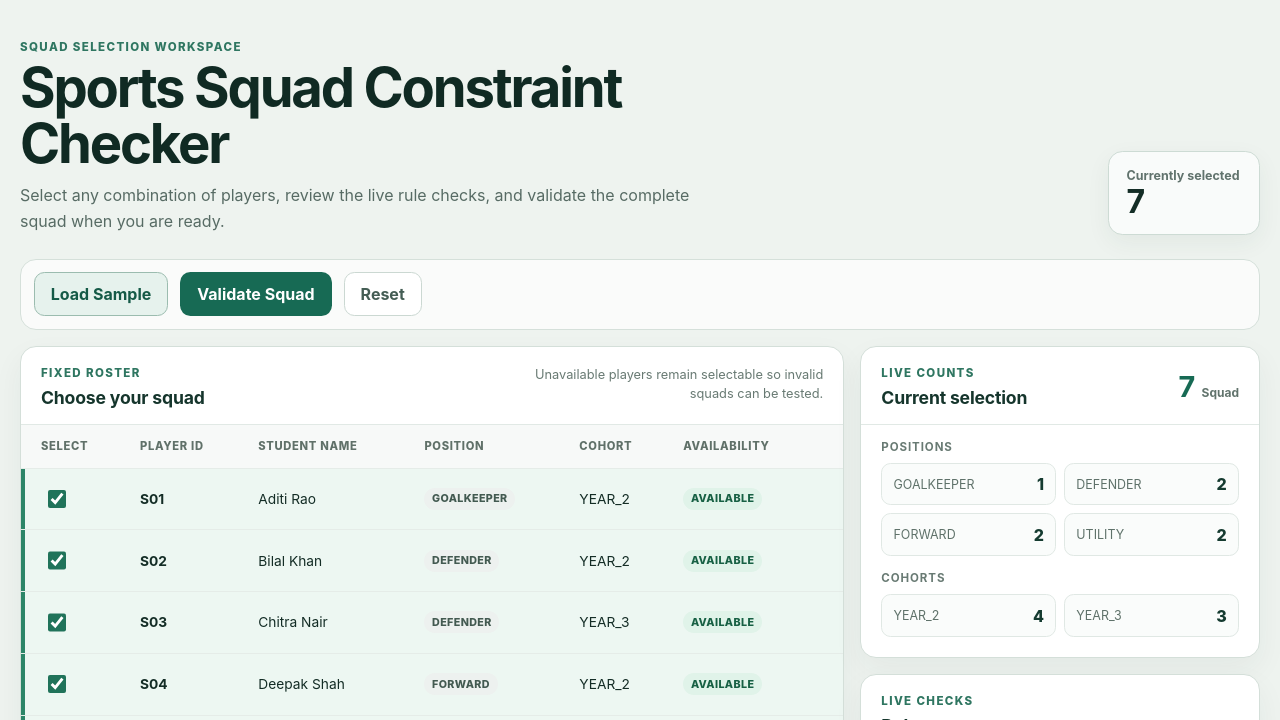
Test case: Sports Squad Constraint Checker UI › reports the exact ordered S07 to S08 violations after live checks update
Click the button "Validate Squad": coordinates (256, 294) [180,272,332,316]
(page scrolled)
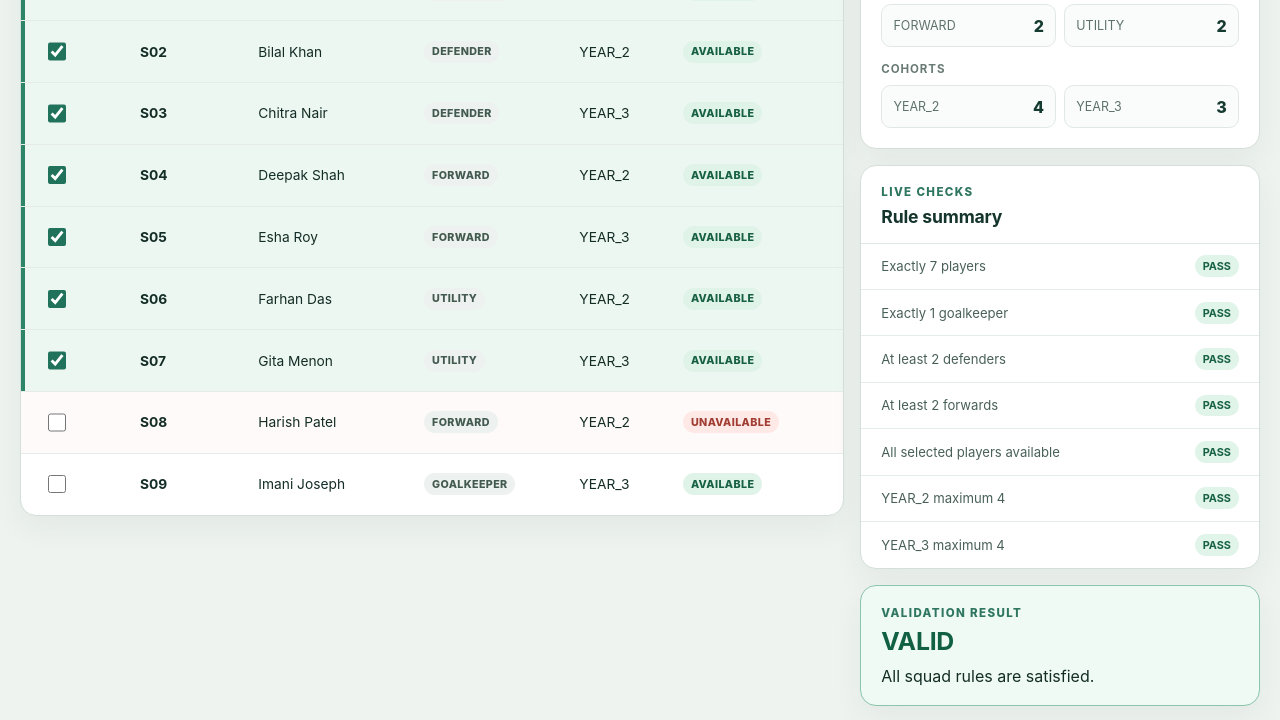
expect the heading "VALID" is shown: met, box [881,626,954,656]
Click the checkbox next to "S07": coordinates (57, 361) [48,351,66,370]
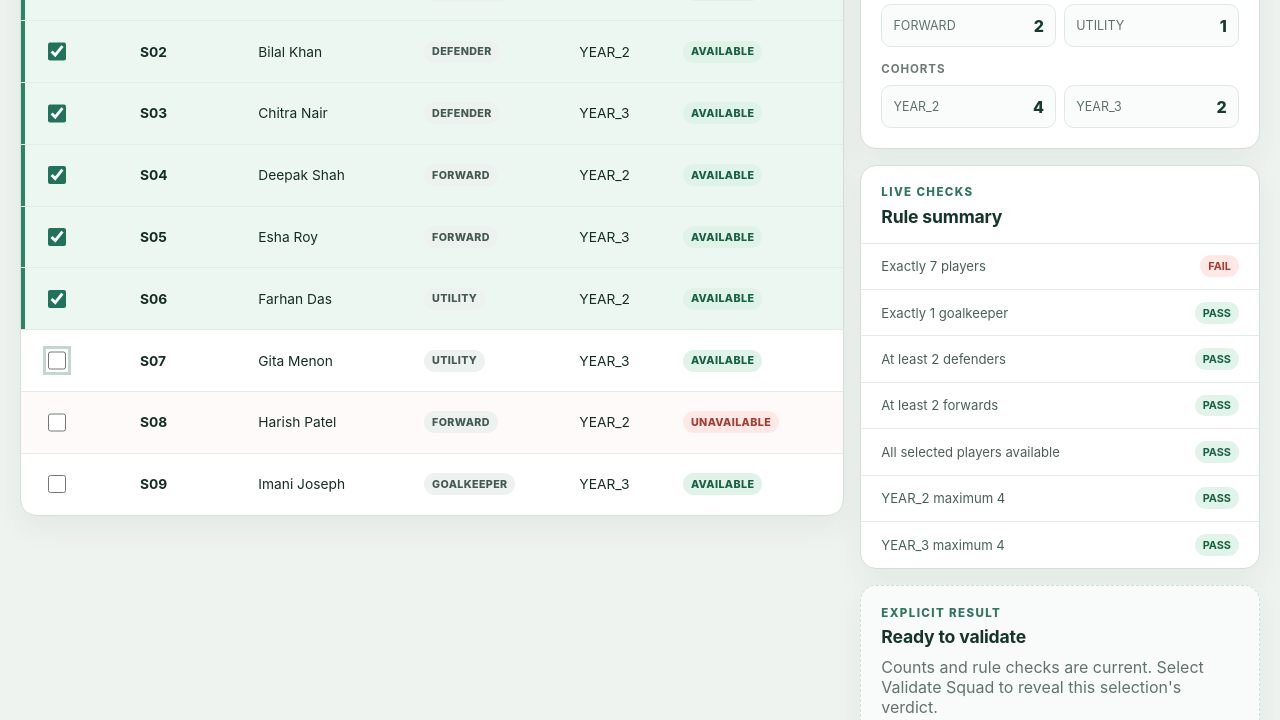
Click the checkbox next to "S08": coordinates (57, 422) [48,413,66,432]
(page scrolled)
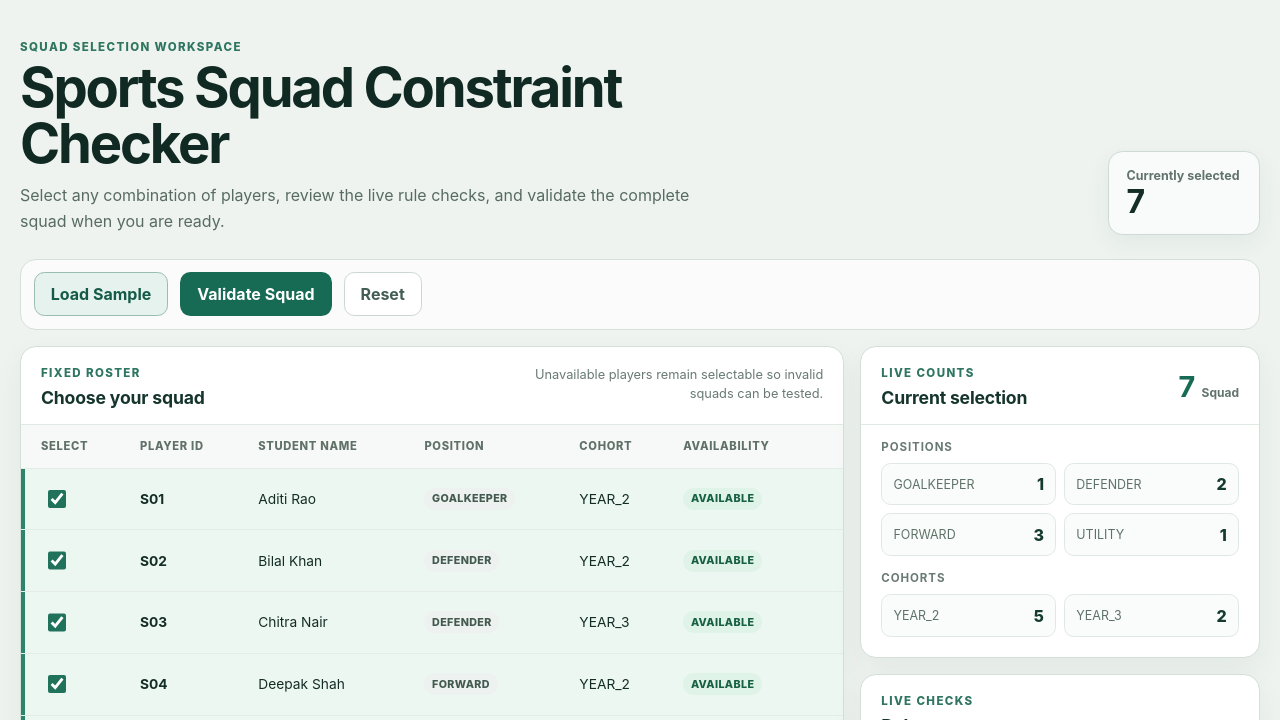
expect the 2nd text "1" is shown: met, box [1220,525,1227,545]
expect the text "3" is shown: met, box [1033,525,1044,545]
expect the text "5" is shown: met, box [1034,606,1044,626]
Click the button "Validate Squad": coordinates (256, 294) [180,272,332,316]
(page scrolled)
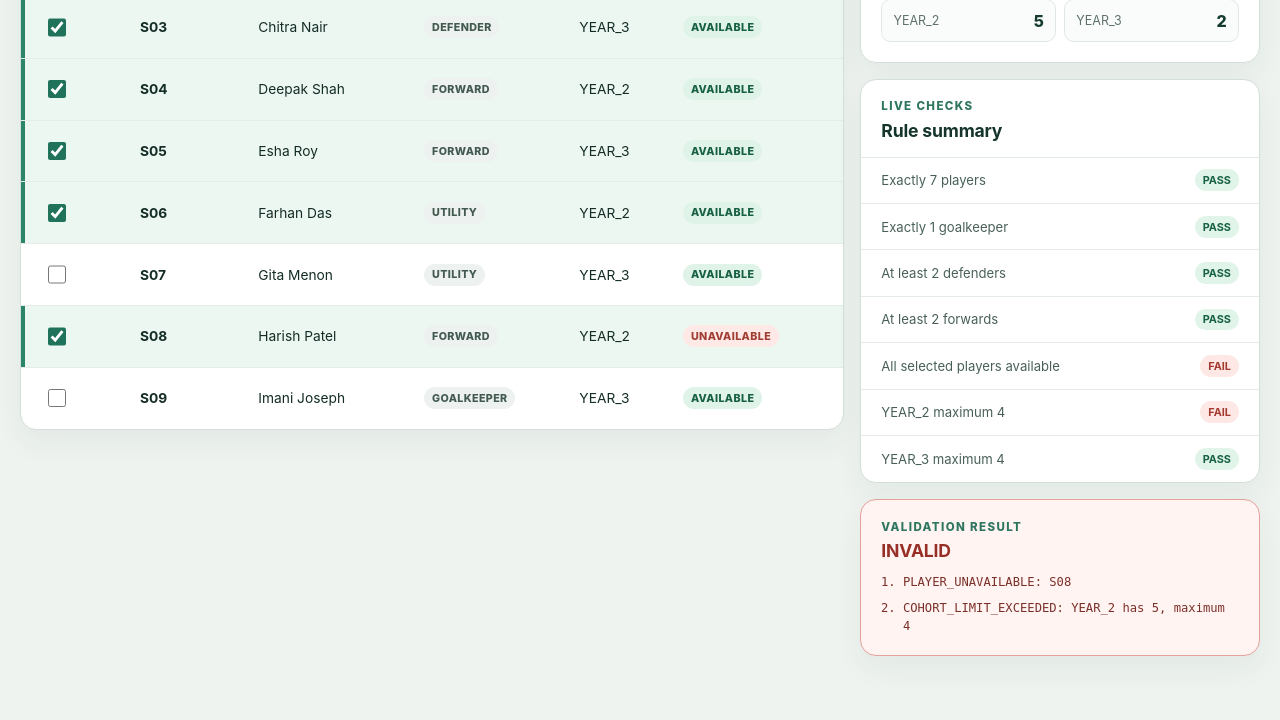
expect the heading "INVALID" is shown: met, box [881,540,951,561]
expect the list items read "PLAYER_UNAVAILABLE: S08", "COHORT_LIMIT_EXCEEDED: YEAR_2 has 5, maximum 4", in this order: met, box [903,575,1071,589]; [903,600,1239,635]
